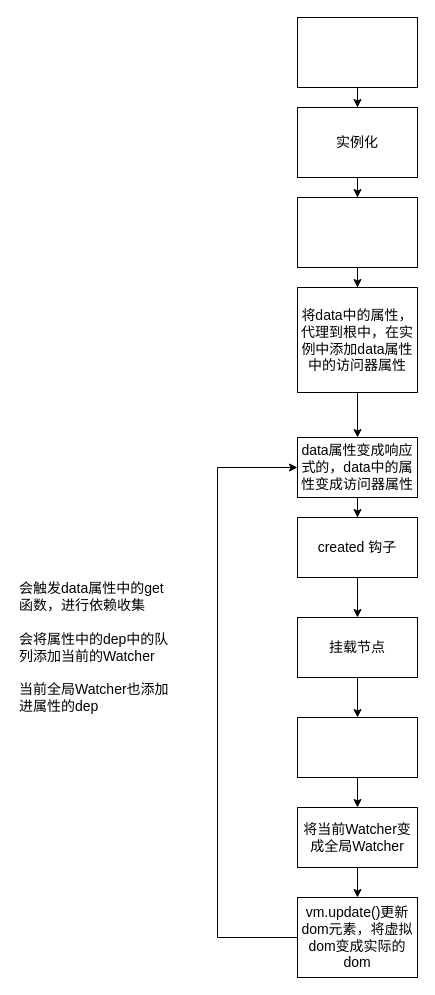
The diagram is 435 pixels wide and 995 high, and some of its shapes have lost their labels. Here are the shapes that lost their labels. From the top down, the centre of each, then its label:
point 357,52: Vue
point 357,232: 初始化data, props等
point 357,747: 创建实例中的Watcher
